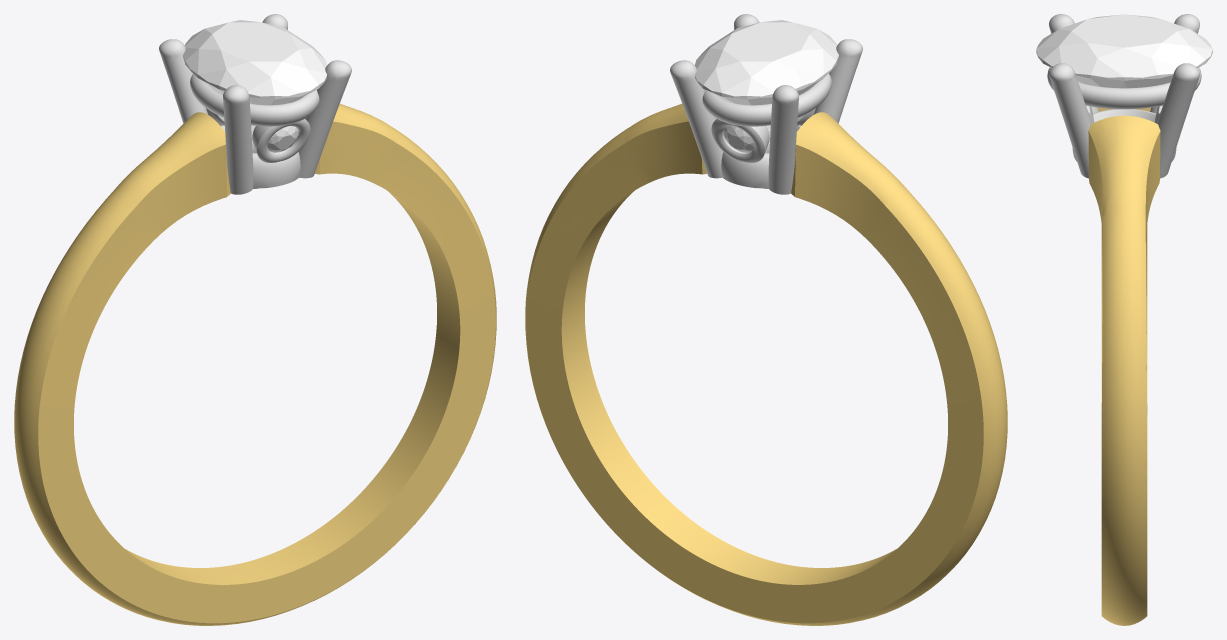
File: alexpractice4_webgi.glb
3 views of the same model, side by side, from view 1: azimuth 30°, elevation 25°; view 2: azimuth 150°, elevation 25°; view 3: azimuth 270°, elevation 25° (orthographic).
Visible parts, largest first — view 1: mike_YG_for_3d_model, mike_PT_for_3d_model, mike_dia_for_3d_model002; view 2: mike_YG_for_3d_model, mike_PT_for_3d_model, mike_dia_for_3d_model002; view 3: mike_YG_for_3d_model, mike_dia_for_3d_model002, mike_PT_for_3d_model.
Boxes of the visible parts, x1,y1,x2,y2 form: mike_YG_for_3d_model: (14,102,496,625); mike_PT_for_3d_model: (159,14,351,194); mike_dia_for_3d_model002: (183,20,327,105); mike_YG_for_3d_model: (525,102,1007,625); mike_PT_for_3d_model: (670,14,862,194); mike_dia_for_3d_model002: (694,20,838,105); mike_YG_for_3d_model: (1088,107,1160,625); mike_dia_for_3d_model002: (1036,14,1212,88); mike_PT_for_3d_model: (1047,14,1201,178).
Size of the model in its own units: 2.56 by 2.96 by 0.8308.
